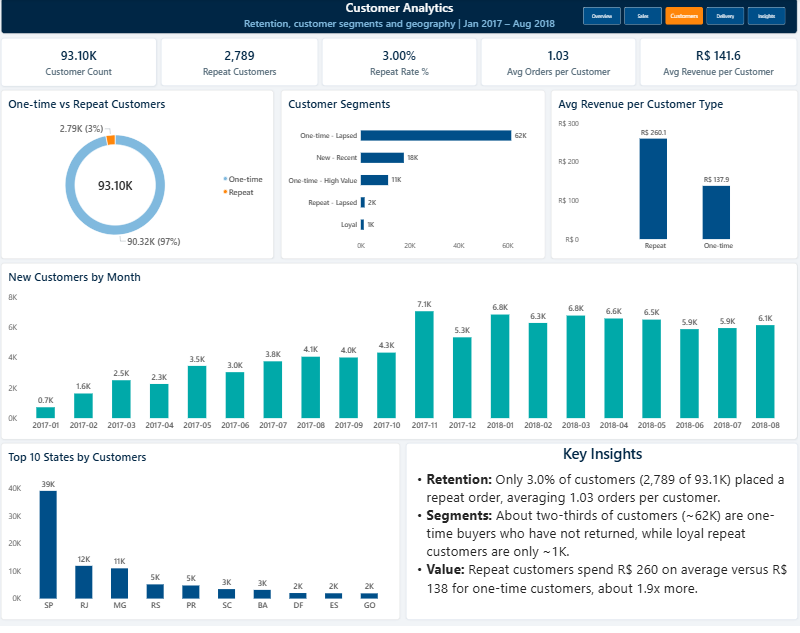

This screenshot's page, from the dashboard's own definition file:
{"tool":"powerbi","page":{"name":"Customers","canvas":[1920,1500],"ordinal":2},"visuals":[{"type":"textbox","title":"Customer Analytics","box":[8.1,0,1895.7,84.9],"z":0},{"type":"card","fields":{"Values":["_Measures.Customer Count"]},"box":[8.1,95,370,115.2],"z":1000},{"type":"card","fields":{"Values":["_Measures.Repeat Customers"]},"box":[388.1,95.2,373.8,114.3],"z":2000},{"type":"card","fields":{"Values":["_Measures.Repeat Rate %"]},"box":[771.4,95.2,369,114.3],"z":3000},{"type":"card","fields":{"Values":["_Measures.Avg Orders per Customer"]},"box":[1150,95.2,369,114.3],"z":4000},{"type":"card","fields":{"Values":["_Measures.Avg Revenue per Customer"]},"box":[1528.6,95.2,373.8,114.3],"z":5000},{"type":"donutChart","title":"One-time vs Repeat Customers","fields":{"Category":["Dim_Customer.Customer Type"],"Y":["_Measures.Customer Count"]},"box":[8.1,218.3,648.8,402.2],"z":6000},{"type":"clusteredBarChart","title":"Customer Segments","fields":{"Category":["Dim_Customer.Customer Segment"],"Y":["_Measures.Customer Count"]},"box":[673,218.3,628.5,402.2],"z":7000},{"type":"clusteredColumnChart","title":"Avg Revenue per Customer Type","fields":{"Category":["Dim_Customer.Customer Type"],"Y":["_Measures.Avg Revenue per Customer"]},"box":[1315.7,218.3,588.1,402.2],"z":8000},{"type":"clusteredColumnChart","title":"New Customers by Month","fields":{"Category":["Dim_Customer.First Order Month"],"Y":["_Measures.Customer Count"]},"box":[8.1,630.6,1895.7,420.4],"z":9000},{"type":"clusteredColumnChart","title":"Top 10 States by Customers","fields":{"Category":["Fact_OrderItems.customer_state"],"Y":["_Measures.Total Customers"]},"box":[7.1,1059.5,950,421.4],"z":10000},{"type":"textbox","title":"Key Insights","box":[971.4,1059.5,933.3,421.4],"z":11000},{"type":"pageNavigator","box":[1392.9,21.4,483.3,42.9],"z":11001}]}

Visuals, with their boxes in screenshot pixels (x1, y1, x2, y2), scaled from the page's 1920x1500 canvas onto the 800x633 screenshot:
"Customer Analytics" textbox: Rect(3, 0, 793, 36)
card - _Measures.Customer Count: Rect(3, 40, 158, 89)
card - _Measures.Repeat Customers: Rect(162, 40, 317, 88)
card - _Measures.Repeat Rate %: Rect(321, 40, 475, 88)
card - _Measures.Avg Orders per Customer: Rect(479, 40, 633, 88)
card - _Measures.Avg Revenue per Customer: Rect(637, 40, 793, 88)
"One-time vs Repeat Customers" donutChart: Rect(3, 92, 274, 262)
"Customer Segments" clusteredBarChart: Rect(280, 92, 542, 262)
"Avg Revenue per Customer Type" clusteredColumnChart: Rect(548, 92, 793, 262)
"New Customers by Month" clusteredColumnChart: Rect(3, 266, 793, 444)
"Top 10 States by Customers" clusteredColumnChart: Rect(3, 447, 399, 625)
"Key Insights" textbox: Rect(405, 447, 794, 625)
pageNavigator: Rect(580, 9, 782, 27)
